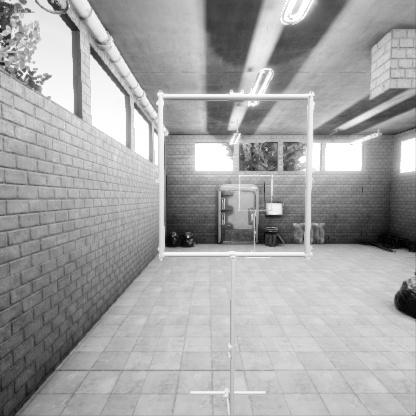gate: (161, 167, 320, 324), (238, 206, 274, 242)
